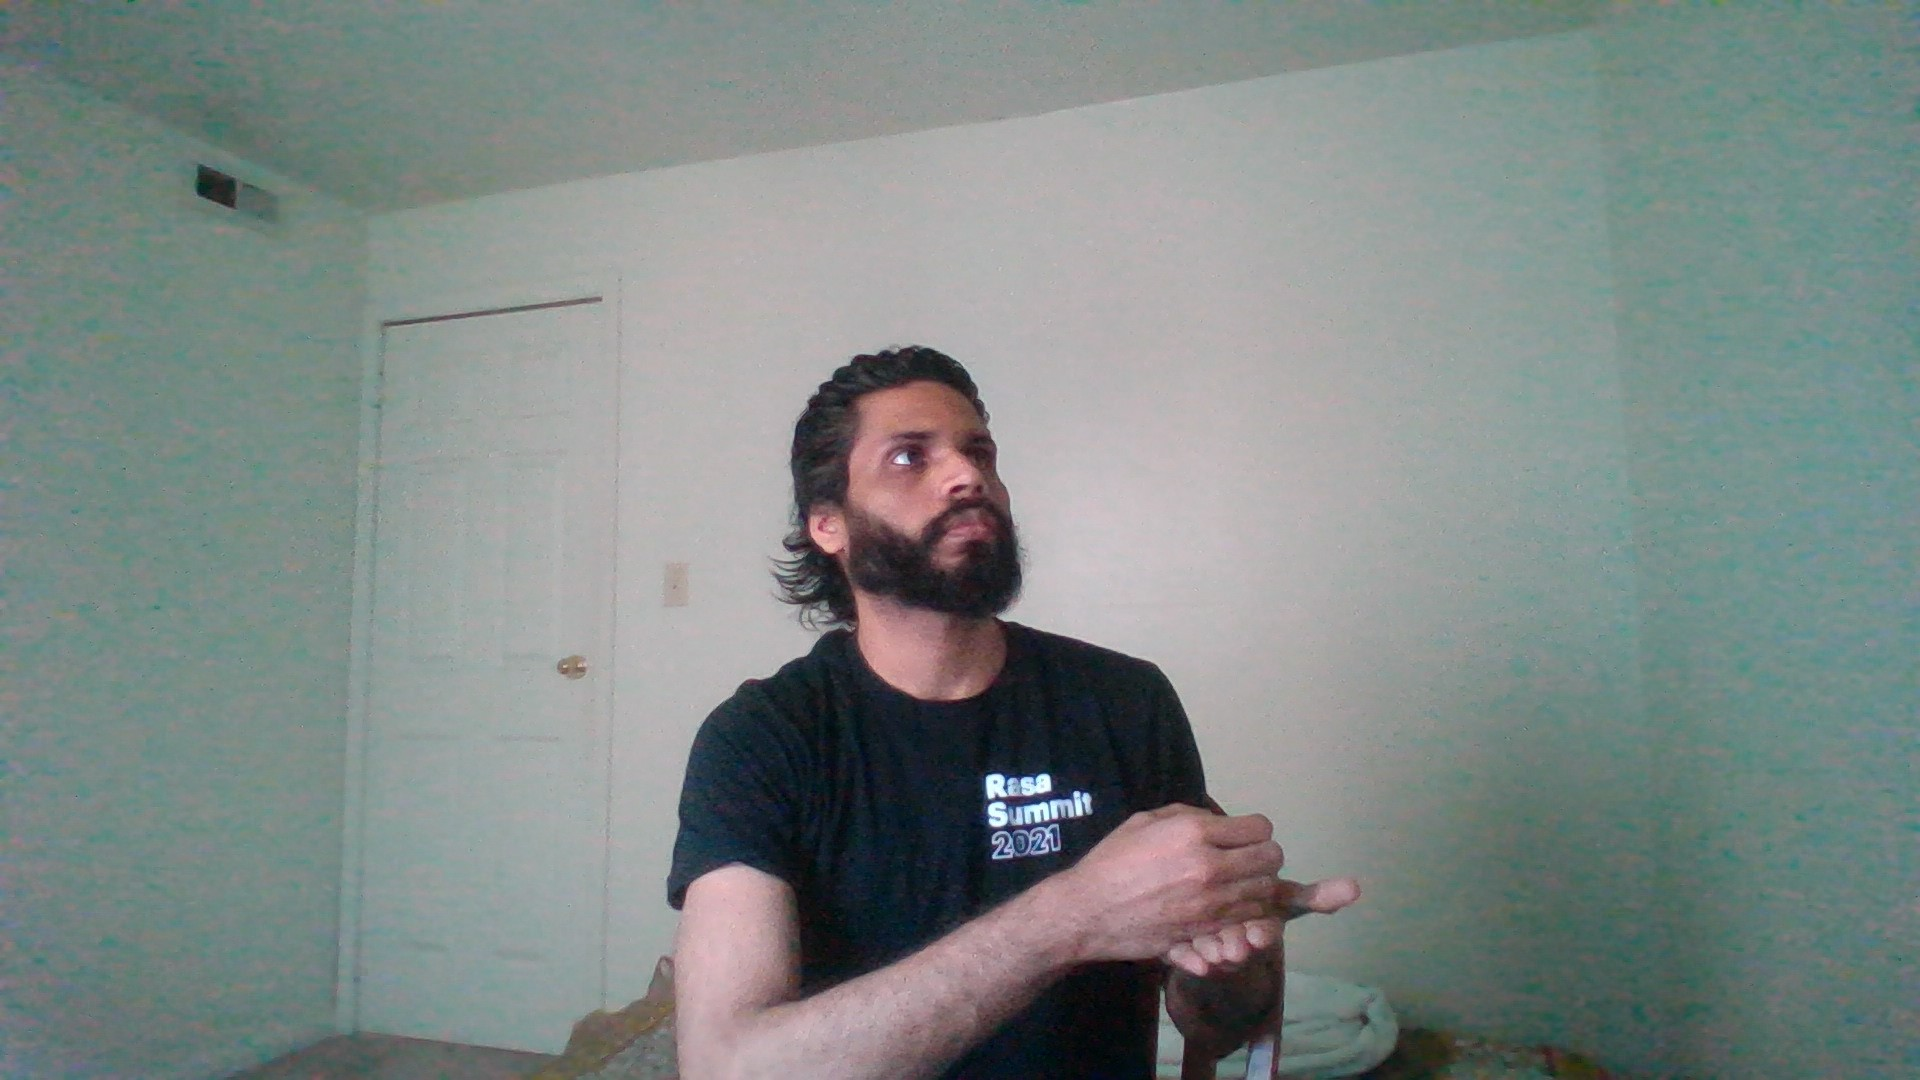Cup: (951, 787, 1408, 1011)
